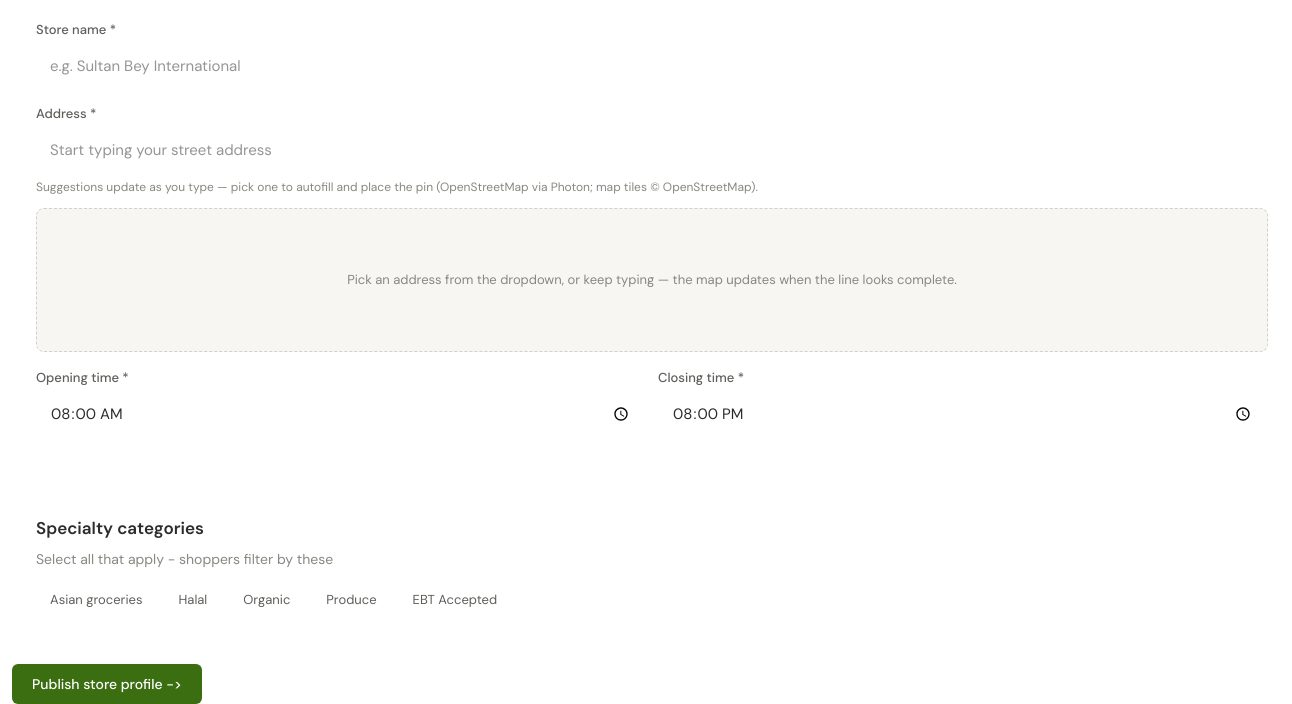
Scenario: StoreProfileForm component › blocks publish when required fields are missing (client validation)
(page scrolled)
What coordinates should you click on to do the following:
click the button "Publish store profile ->"
I would click on:
 (107, 684)
Its box is x1=12 y1=664 x2=202 y2=703.
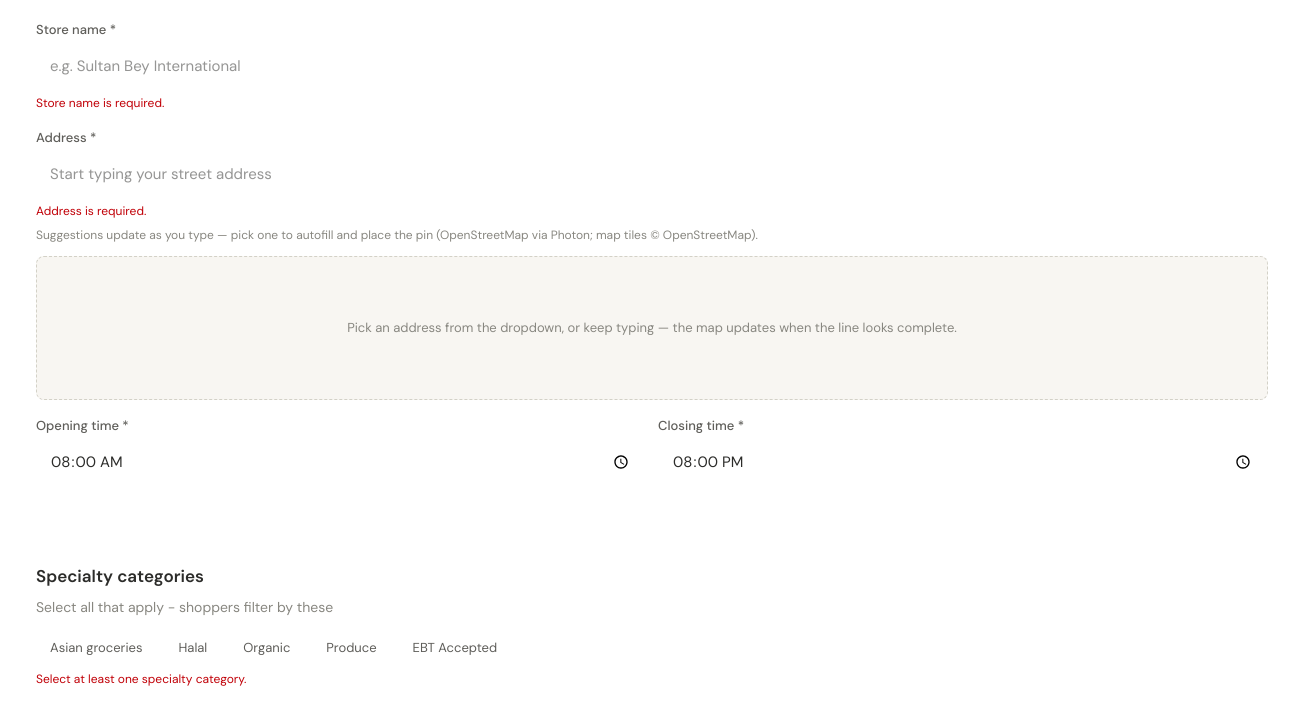
Expected: the text "Store name is required." is shown, x1=36 y1=94 x2=164 y2=110
Expected: the text "Address is required." is shown, x1=36 y1=202 x2=146 y2=218
Expected: the text "Select at least one specialty category." is shown, x1=36 y1=670 x2=246 y2=686
